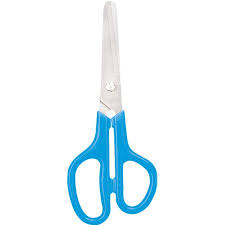tihiras: (55, 2, 165, 225)
